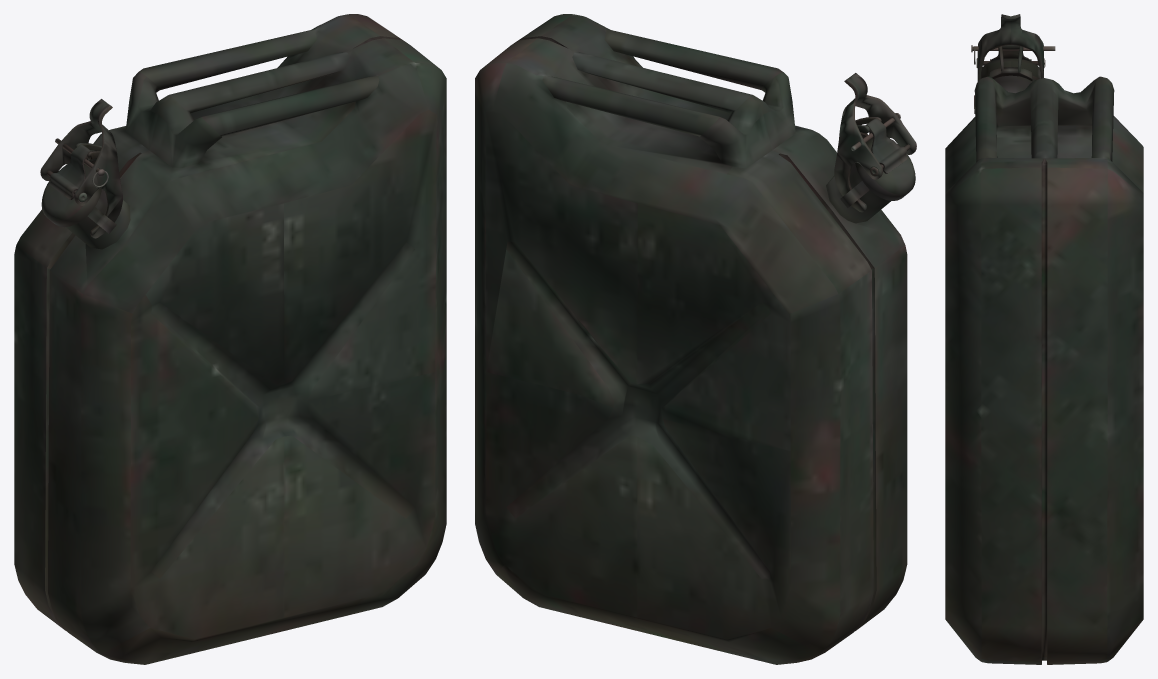
File: jerrycan_green.glb
3 renders of one model, left to right at view 1: azimuth 30°, elevation 25°; view 2: azimuth 150°, elevation 25°; view 3: azimuth 270°, elevation 25°, orthographic. The views are drawn at different scales.
Visible parts, largest first — view 1: metal_jerrycan_green_body, metal_jerrycan_green_latch, metal_jerrycan_green_cap; view 2: metal_jerrycan_green_body, metal_jerrycan_green_latch, metal_jerrycan_green_cap; view 3: metal_jerrycan_green_body, metal_jerrycan_green_latch, metal_jerrycan_green_cap, metal_jerrycan_green_fastener.
Part boxes in pixels (<box>): metal_jerrycan_green_body: <box>14,14,446,664</box>; metal_jerrycan_green_latch: <box>40,99,122,238</box>; metal_jerrycan_green_cap: <box>41,144,101,227</box>; metal_jerrycan_green_body: <box>475,14,907,664</box>; metal_jerrycan_green_latch: <box>834,73,916,212</box>; metal_jerrycan_green_cap: <box>855,118,915,200</box>; metal_jerrycan_green_body: <box>945,75,1143,664</box>; metal_jerrycan_green_latch: <box>976,14,1045,81</box>; metal_jerrycan_green_cap: <box>981,45,1040,79</box>; metal_jerrycan_green_fastener: <box>989,46,1032,81</box>.
Size of the model in its own units: 0.3604 by 0.4998 by 0.1709.
1 material, 1 textured.
